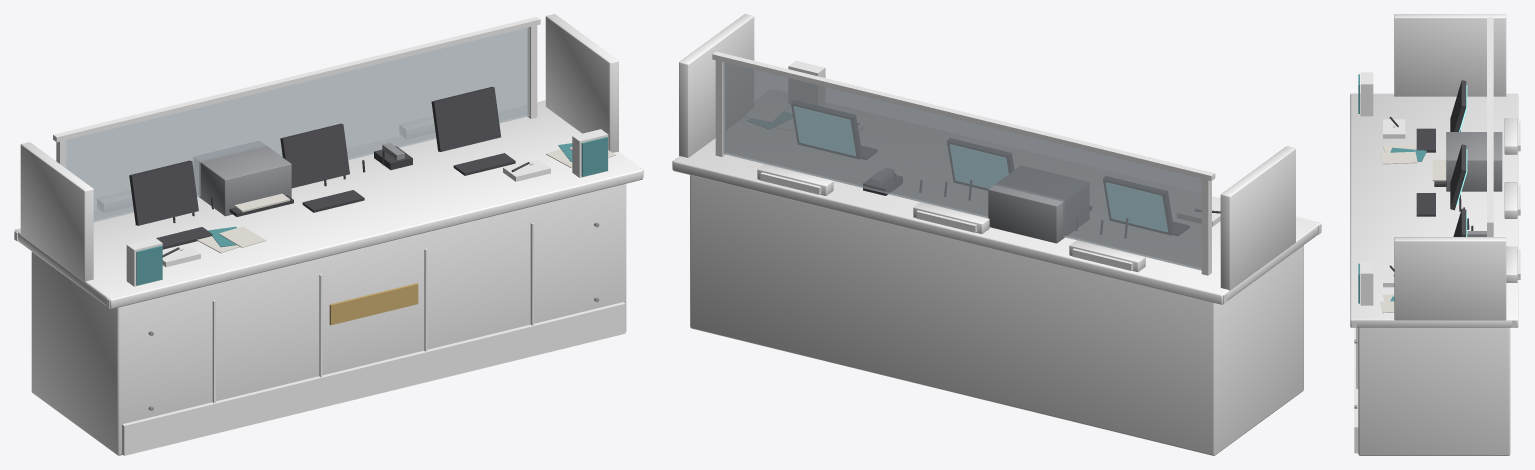
File: hm_bank_teller_counter_v2.glb
3 renders of one model, left to right at view 1: azimuth 30°, elevation 25°; view 2: azimuth 150°, elevation 25°; view 3: azimuth 270°, elevation 25°, orthographic. The views are drawn at different scales.
Parts seen in each view (by area): view 1: TC_Base, TC_Top, TC_Glass, TC_Kick, TC_Wing_-1.65, TC_Wing_1.65, TC_Printer, TC_GTop, TC_Mon_0, TC_Mon_2, TC_Mon_1, TC_Logo (+9 smaller); view 2: TC_Base, TC_Glass, TC_Top, TC_Wing_-1.65, TC_Wing_1.65, TC_Printer, TC_GTop, TC_Scr_2, TC_Scr_0, TC_Scr_1, TC_Brochure_1, TC_GPost_1.48 (+6 smaller); view 3: TC_Top, TC_Base, TC_Wing_1.65, TC_Wing_-1.65, TC_Printer, TC_GTop, TC_Mon_1, TC_Brochure_0, TC_Brochure_1, TC_Mon_0, TC_Slot_1, TC_Slot_0 (+10 smaller).
Boxes of the visible parts, x1,y1,x2,y2 form: TC_Base: [31, 183, 626, 455]; TC_Top: [15, 100, 642, 309]; TC_Glass: [66, 27, 529, 222]; TC_Kick: [122, 302, 625, 455]; TC_Wing_-1.65: [20, 142, 93, 281]; TC_Wing_1.65: [545, 14, 618, 152]; TC_Printer: [194, 141, 291, 216]; TC_GTop: [53, 16, 540, 142]; TC_Mon_0: [129, 160, 198, 225]; TC_Mon_2: [431, 87, 500, 151]; TC_Mon_1: [280, 123, 349, 188]; TC_Logo: [329, 283, 418, 325]; TC_Base: [690, 175, 1303, 455]; TC_Glass: [723, 62, 1210, 270]; TC_Top: [673, 89, 1320, 304]; TC_Wing_-1.65: [1220, 146, 1295, 290]; TC_Wing_1.65: [679, 14, 754, 157]; TC_Printer: [988, 166, 1088, 243]; TC_GTop: [712, 51, 1215, 180]; TC_Scr_2: [794, 106, 855, 155]; TC_Scr_0: [1106, 183, 1167, 231]; TC_Scr_1: [950, 145, 1008, 187]; TC_Brochure_1: [788, 60, 825, 106]; TC_GPost_1.48: [715, 56, 725, 156]; TC_Top: [1350, 93, 1518, 327]; TC_Base: [1358, 327, 1510, 455]; TC_Wing_1.65: [1394, 237, 1506, 320]; TC_Wing_-1.65: [1394, 14, 1506, 96]; TC_Printer: [1446, 132, 1502, 191]; TC_GTop: [1487, 17, 1493, 227]; TC_Mon_1: [1450, 144, 1466, 210]; TC_Brochure_0: [1360, 72, 1373, 116]; TC_Brochure_1: [1360, 261, 1373, 305]; TC_Mon_0: [1450, 80, 1466, 131]; TC_Slot_1: [1504, 182, 1517, 218]; TC_Slot_0: [1504, 118, 1517, 154].
Size of the model in its own units: 3.36 by 1.57 by 1.06.
